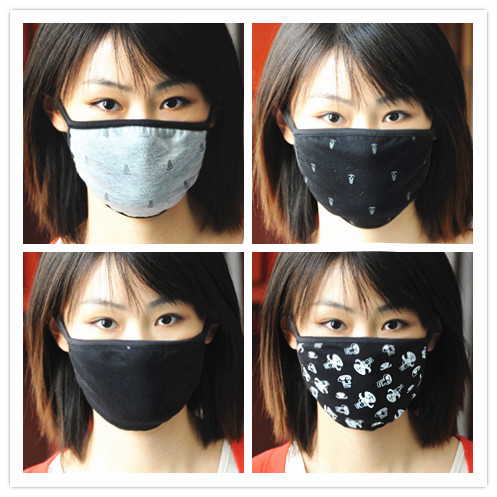face_mask: (61, 31, 209, 213), (291, 45, 433, 216), (65, 256, 204, 423), (297, 263, 428, 423)
